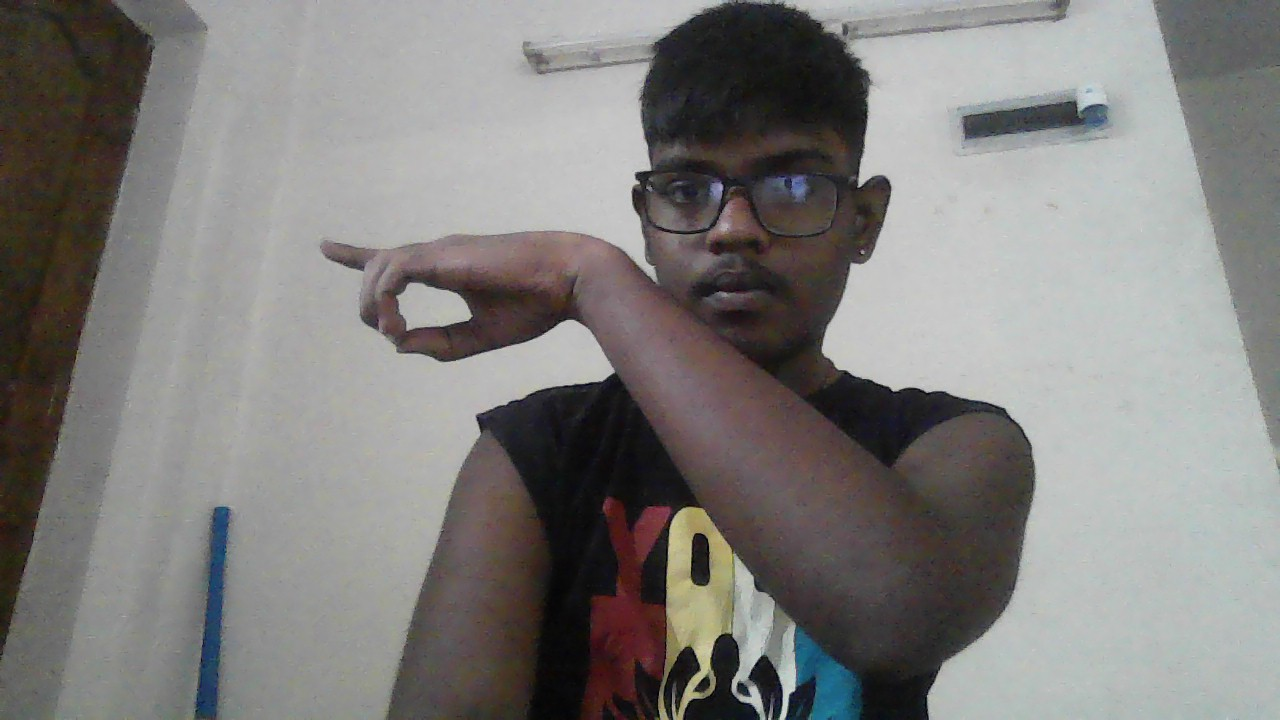P: (322, 228, 602, 362)
